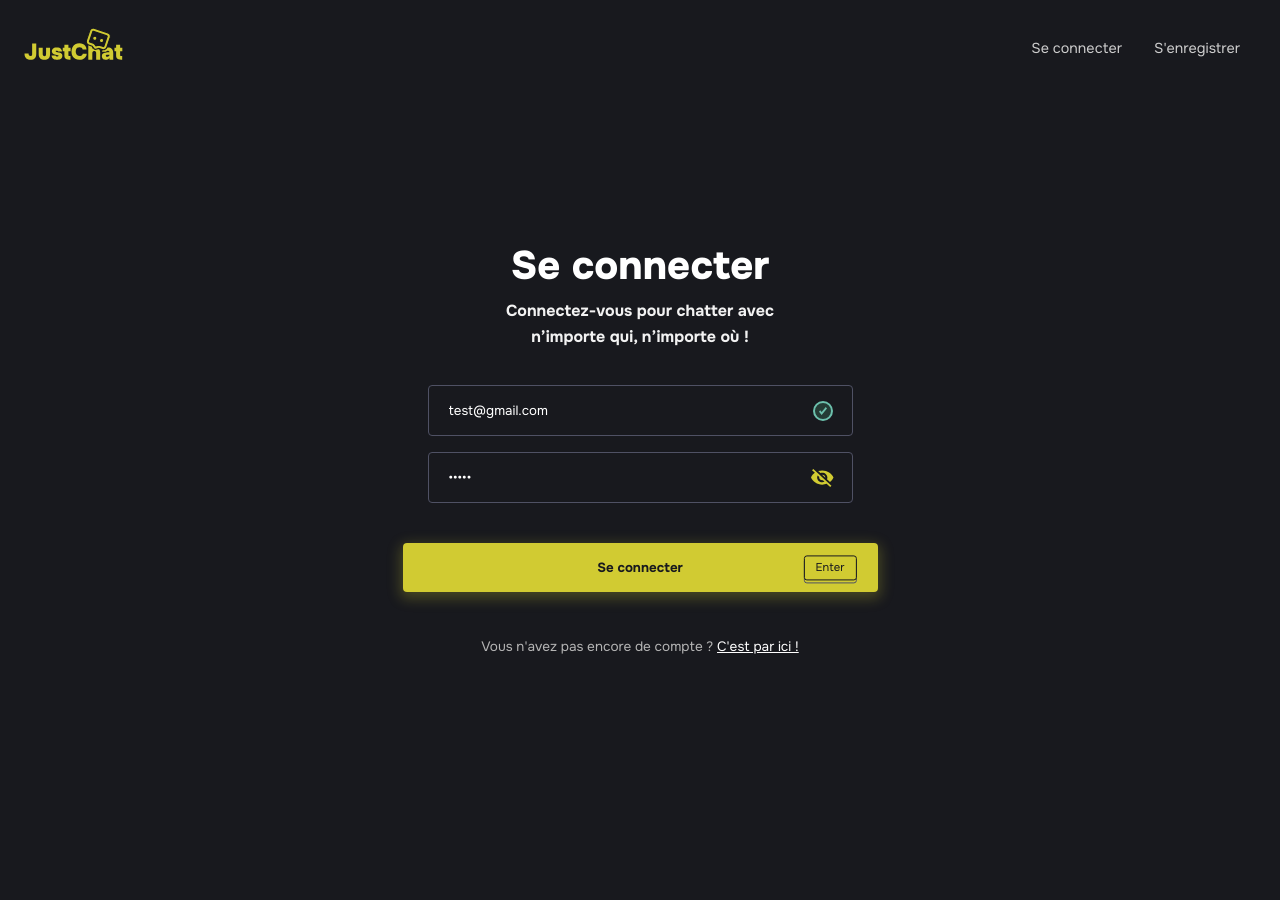
Test: Password input behaviors are working › Press button to toggle hide password twice
Click the button with class "show-password" at (822, 478), box [792,452,852,503]
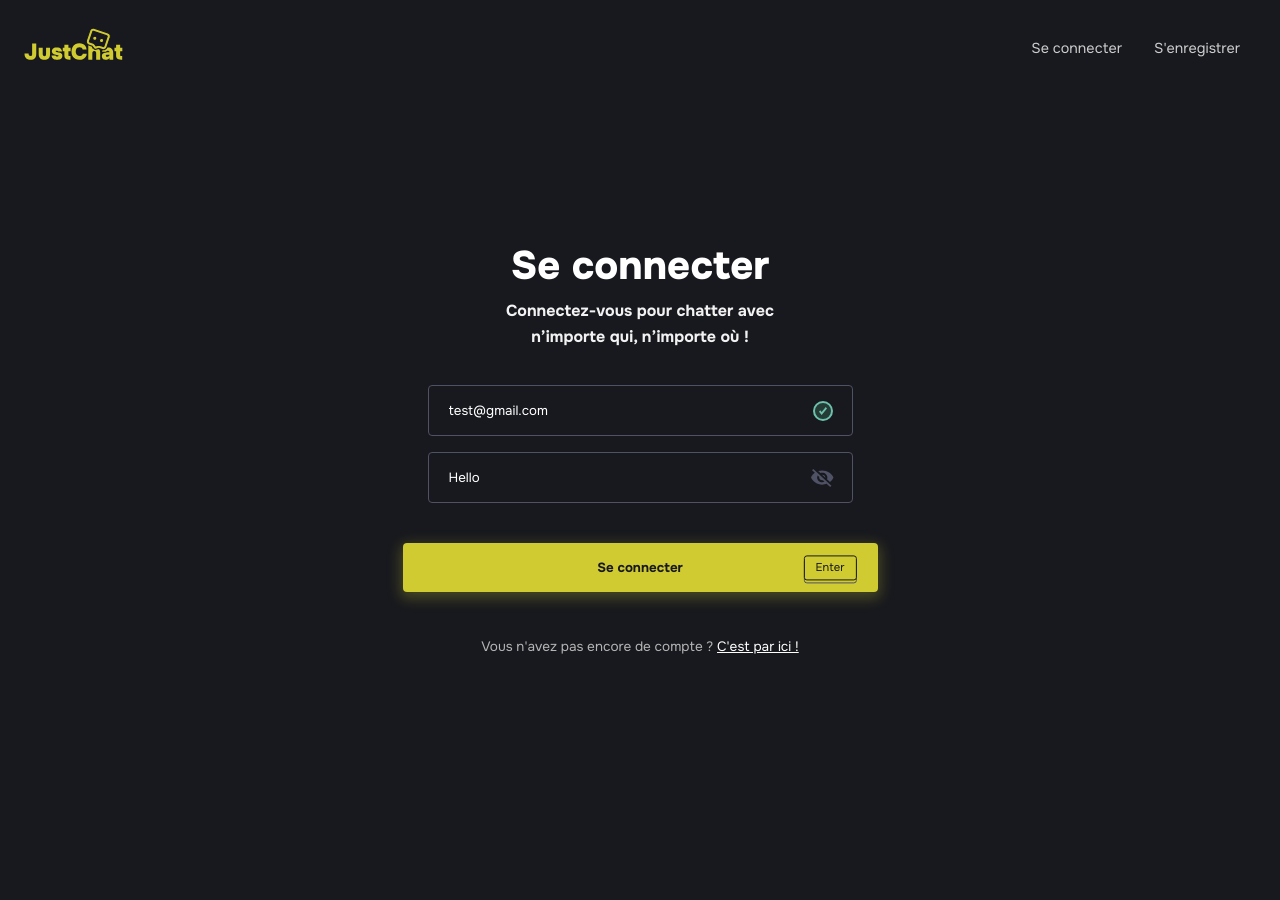
Now the 2nd field shows its text, box [428,452,852,503]
Click the button with class "show-password" at (822, 478), box [792,452,852,503]
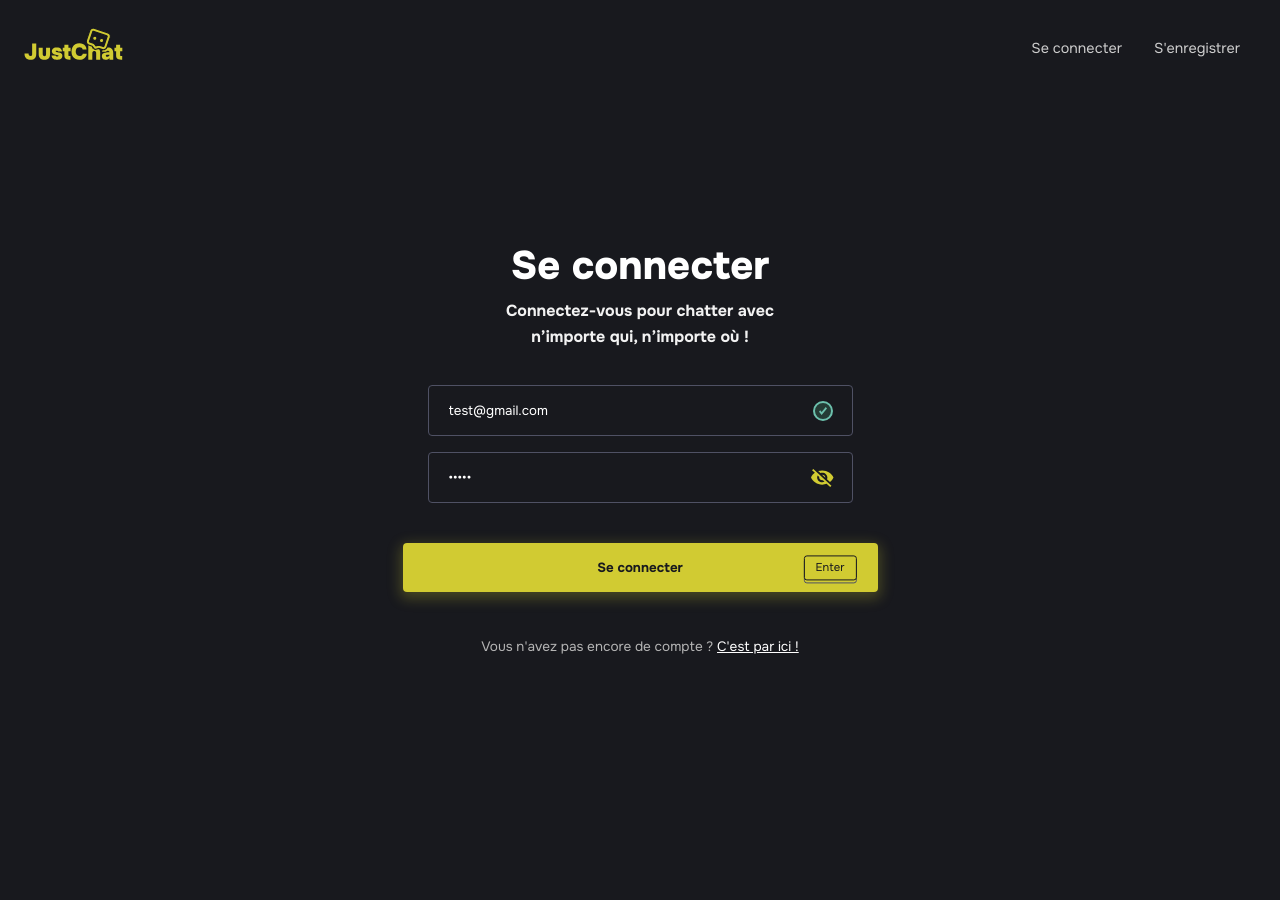
Now the password field hides its text, box [428,452,852,503]
